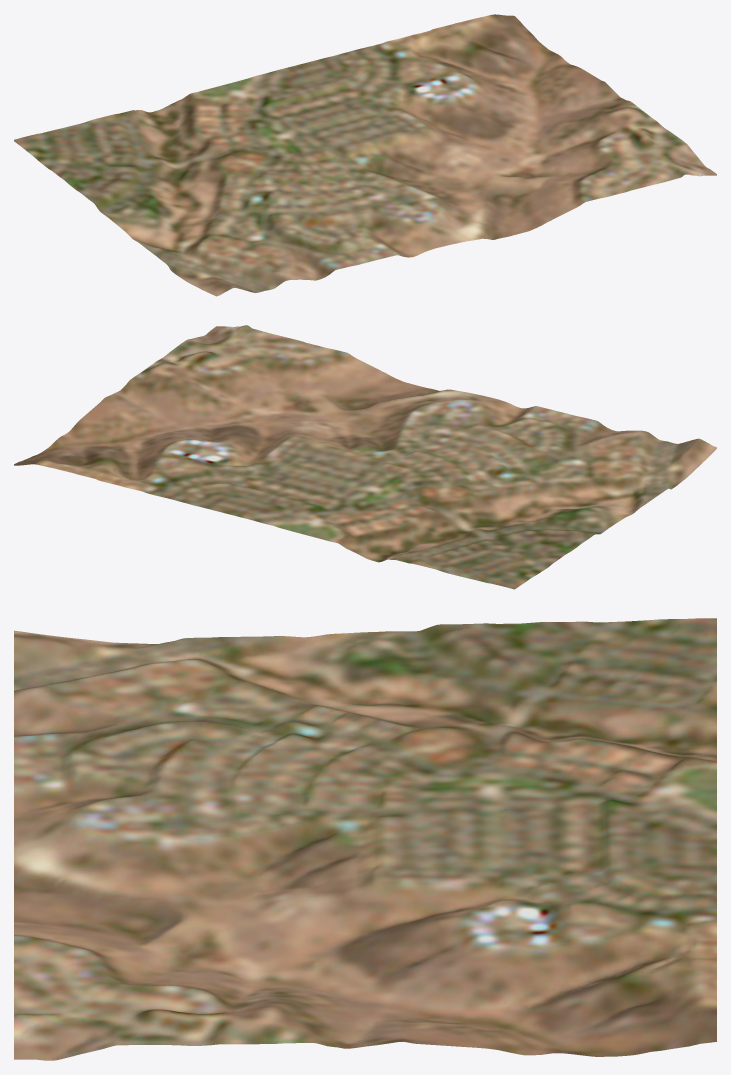
The model's file is terrain_r4_c2.glb.
3 renders of one model, top to bottom at view 1: azimuth 30°, elevation 25°; view 2: azimuth 150°, elevation 25°; view 3: azimuth 270°, elevation 25°, orthographic. The views are drawn at different scales.
Parts seen in each view (by area): view 1: terrain_r4_c2_lod0; view 2: terrain_r4_c2_lod0; view 3: terrain_r4_c2_lod0.
Boxes of the visible parts, bbox=[...] form: terrain_r4_c2_lod0: bbox=[14, 14, 716, 296]; terrain_r4_c2_lod0: bbox=[14, 325, 716, 589]; terrain_r4_c2_lod0: bbox=[14, 618, 716, 1060].
Bounding box in the file's own units: 1125 × 62.01 × 787.
1 material, 1 textured.
